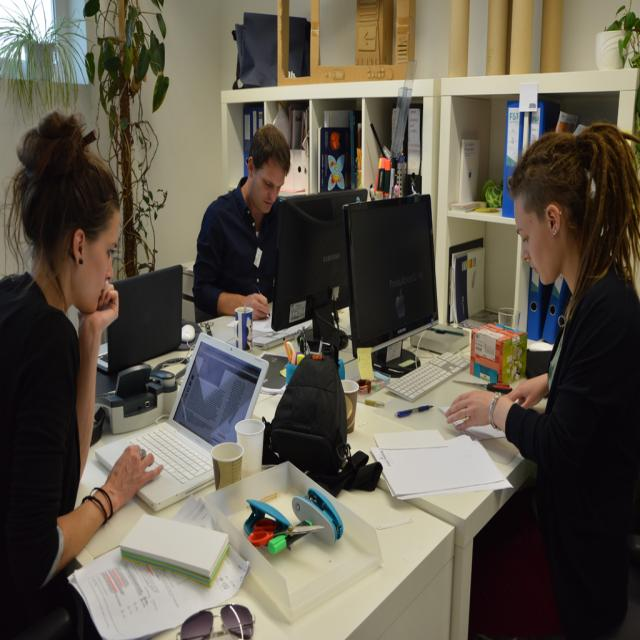desk: (78, 313, 533, 639)
keyboard: (386, 348, 482, 404)
laptop: (93, 334, 269, 512), (250, 188, 368, 342), (97, 264, 184, 381)
mouse: (180, 608, 214, 640)
person: (445, 123, 639, 630), (0, 110, 164, 632), (192, 122, 291, 322)
tv: (343, 195, 438, 362)
